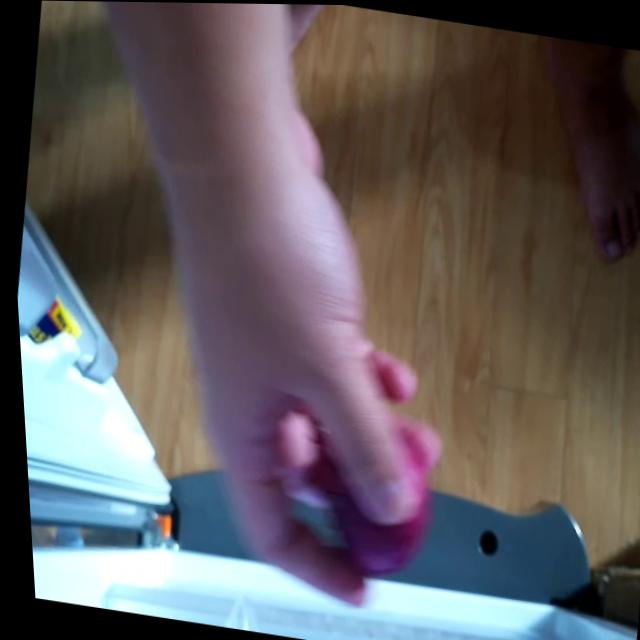onion: (325, 410, 441, 570)
